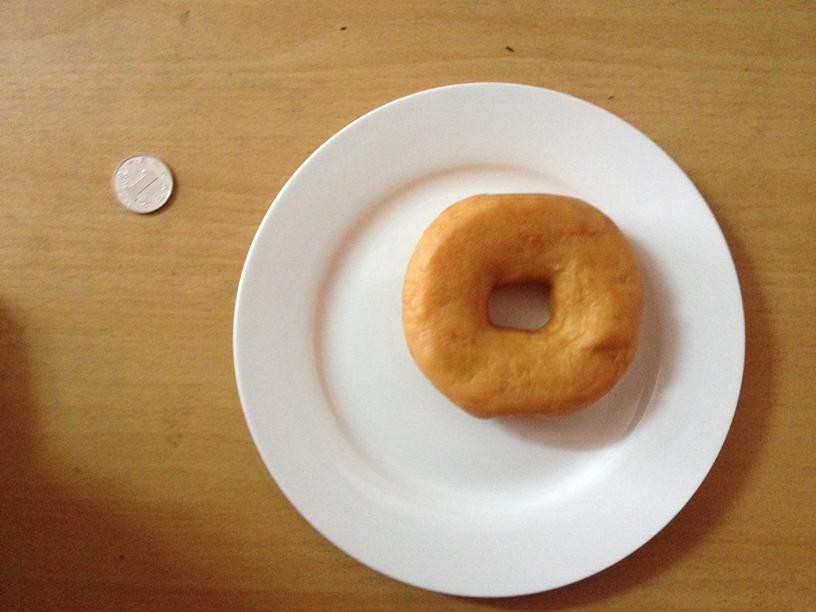coin: (109, 154, 173, 212)
doughnut: (400, 188, 642, 419)
